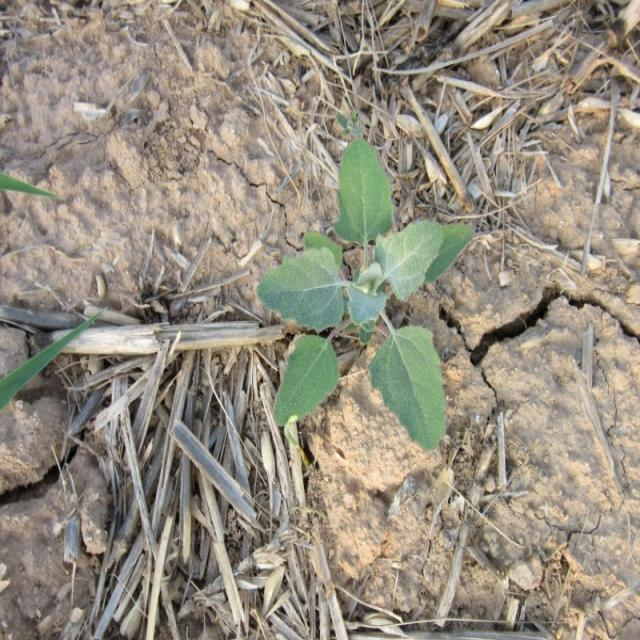ca: (258, 142, 473, 450)
